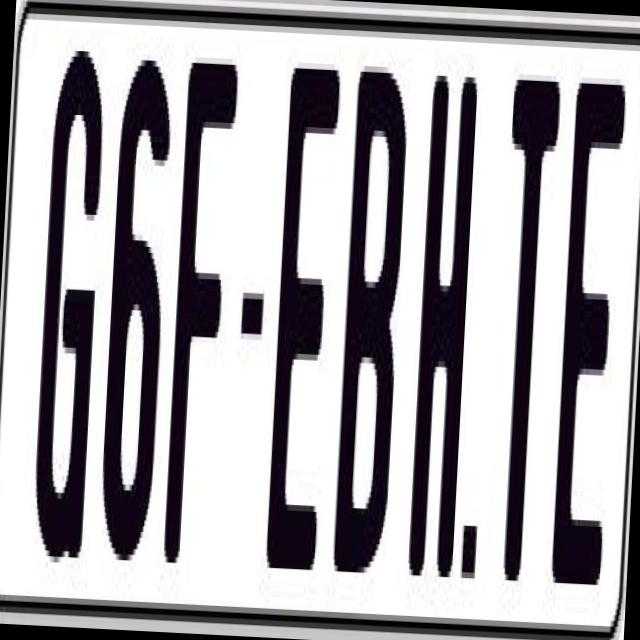6: (96, 48, 180, 550)
B: (327, 72, 414, 586)
E: (263, 68, 346, 582), (550, 65, 630, 568)
F: (158, 62, 240, 594)
G: (30, 44, 116, 564)
H: (407, 58, 480, 560)
T: (486, 80, 566, 594)
